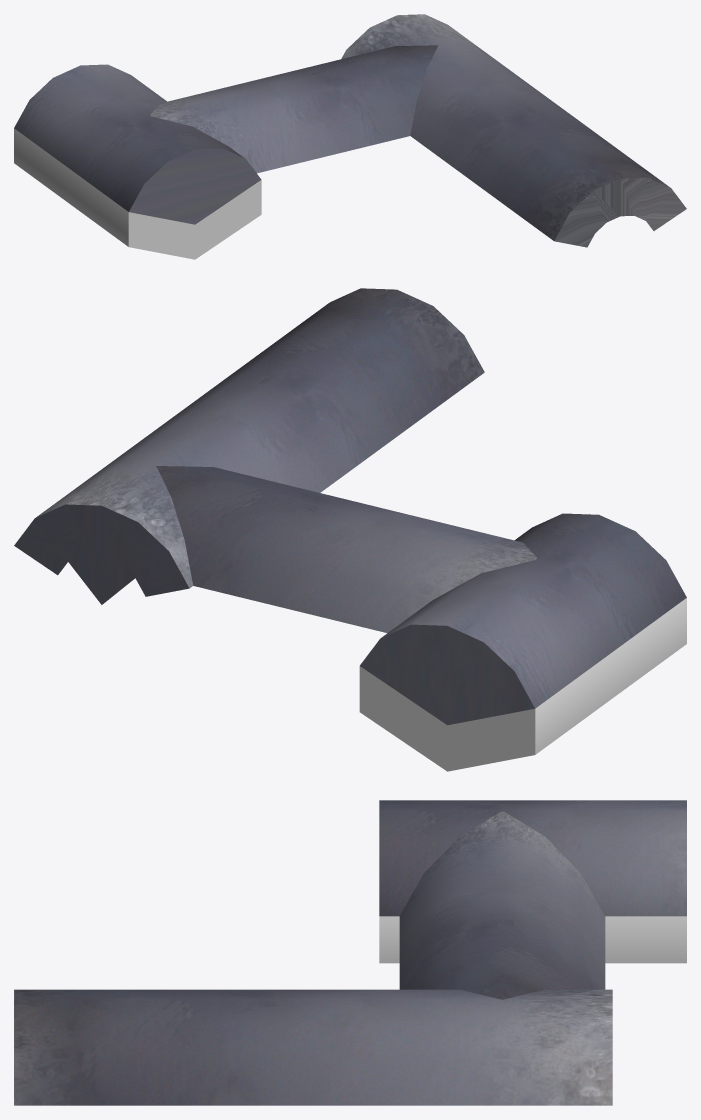
File: a_roof.gltf
3 views of the same model, one above another, from view 1: azimuth 30°, elevation 25°; view 2: azimuth 150°, elevation 25°; view 3: azimuth 270°, elevation 25° (orthographic). The views are drawn at different scales.
Visible parts, largest first — view 1: cylinder, cylinder5, cylinder2, cylinder6; view 2: cylinder, cylinder5, cylinder2, cylinder6; view 3: cylinder, cylinder2, cylinder5, cylinder6.
Boxes of the visible parts, x1,y1,x2,y2 form: cylinder: (341, 14, 686, 247); cylinder5: (14, 64, 261, 259); cylinder2: (150, 45, 437, 173); cylinder6: (14, 129, 261, 258); cylinder: (14, 288, 484, 604); cylinder5: (359, 513, 686, 771); cylinder2: (156, 466, 537, 633); cylinder6: (359, 598, 686, 771); cylinder: (14, 989, 612, 1105); cylinder2: (399, 811, 605, 999); cylinder5: (379, 800, 686, 963); cylinder6: (379, 916, 686, 963).
Size of the model in its own units: 46.96 by 11.73 by 48.4.
2 materials, 1 textured.
